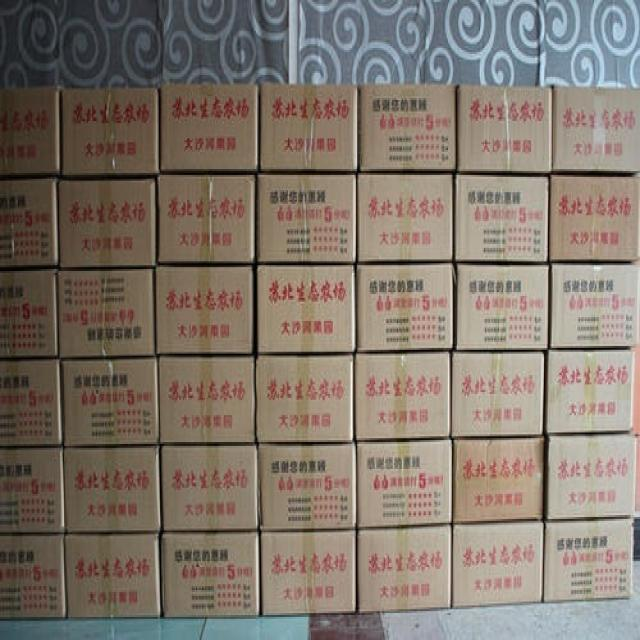box: (155, 173, 256, 267), (256, 262, 357, 355), (153, 266, 256, 357), (255, 172, 358, 263), (58, 173, 157, 267), (355, 262, 455, 354), (355, 437, 453, 530), (60, 356, 159, 448), (353, 350, 452, 442), (158, 355, 258, 446), (160, 529, 261, 619), (60, 446, 161, 535), (256, 354, 354, 445), (258, 441, 357, 531), (58, 87, 159, 175), (357, 172, 455, 262), (259, 85, 358, 174), (160, 445, 260, 533), (57, 267, 154, 357), (159, 86, 258, 174), (454, 172, 549, 263), (358, 85, 456, 173), (456, 85, 552, 174), (65, 531, 162, 619), (259, 530, 358, 616), (356, 525, 452, 613), (452, 349, 546, 438), (455, 261, 549, 349), (452, 436, 546, 523), (549, 173, 638, 264), (451, 521, 545, 606), (546, 347, 634, 437), (545, 434, 636, 521), (548, 263, 638, 348), (552, 87, 639, 174), (544, 517, 634, 601), (0, 355, 64, 448), (0, 445, 65, 535), (0, 534, 66, 619), (0, 175, 59, 267), (0, 86, 59, 175), (0, 267, 58, 356)
